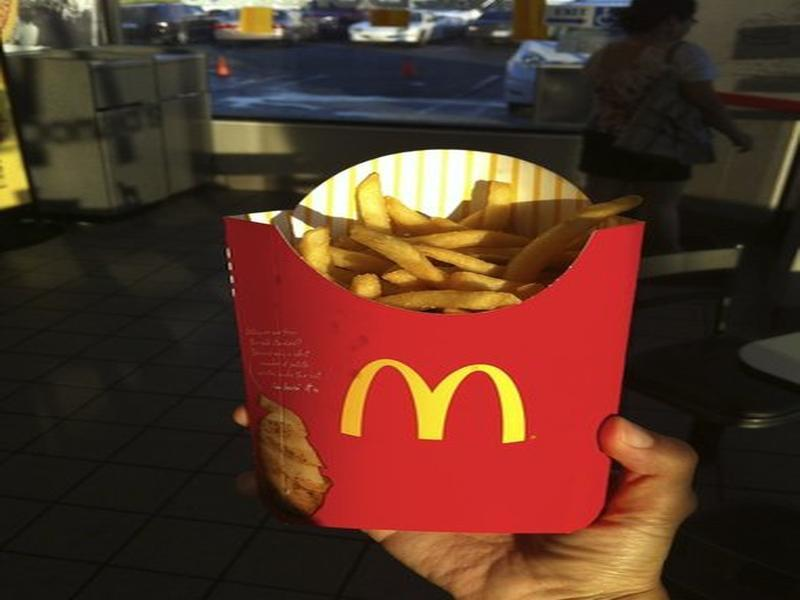french_fries: (265, 108, 735, 565)
